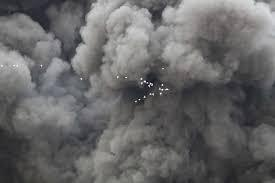smoke: (2, 5, 115, 178), (168, 9, 275, 179)
